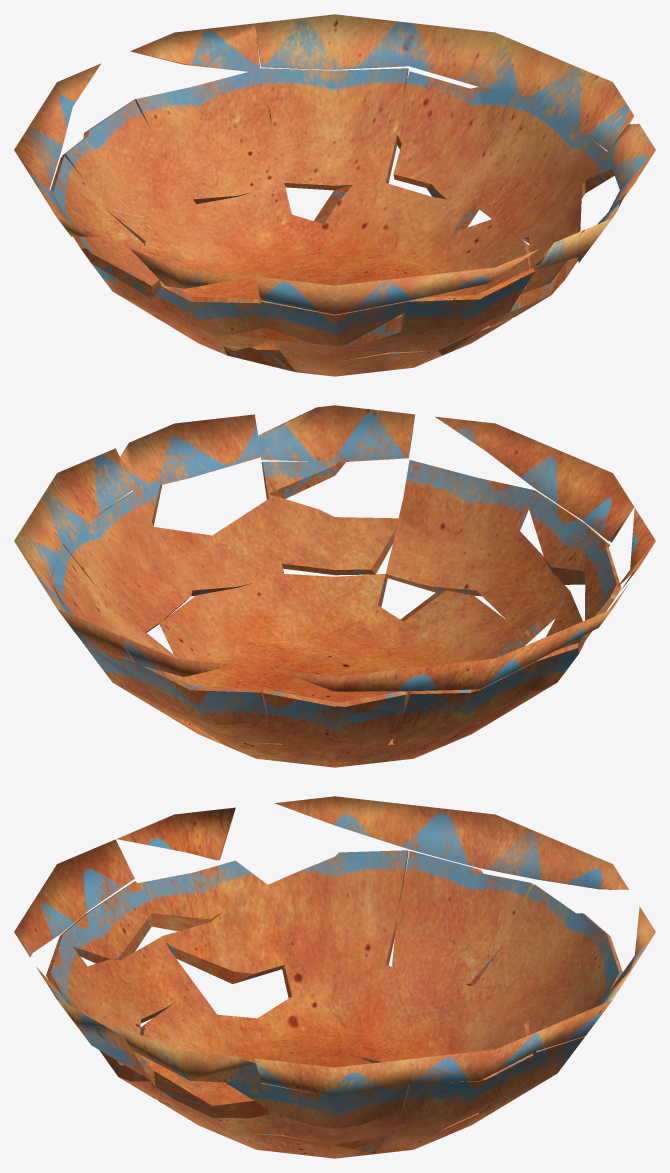
File: bowl.fbx
3 renders of one model, top to bottom at view 1: azimuth 30°, elevation 25°; view 2: azimuth 150°, elevation 25°; view 3: azimuth 270°, elevation 25°, orthographic.
Parts seen in each view (by area): view 1: bowl_cell.008, bowl_cell.040, bowl_cell, bowl_cell.037, bowl_cell.001, bowl_cell.002, bowl_cell.012, bowl_cell.041, bowl_cell.009, bowl_cell.003, bowl_cell.031, bowl_cell.038 (+39 smaller); view 2: bowl_cell.031, bowl_cell.053, bowl_cell.007, bowl_cell.051, bowl_cell.042, bowl_cell.005, bowl_cell.041, bowl_cell.057, bowl_cell.038, bowl_cell.003, bowl_cell.012, bowl_cell.033 (+39 smaller); view 3: bowl_cell.014, bowl_cell.056, bowl_cell.038, bowl_cell.013, bowl_cell.059, bowl_cell.052, bowl_cell.029, bowl_cell.057, bowl_cell.033, bowl_cell.016, bowl_cell.034, bowl_cell.004 (+38 smaller).
Part boxes in pixels (left/top/right/bottom): bowl_cell.008: left=262, top=68, right=408, bottom=180; bowl_cell.040: left=397, top=71, right=516, bottom=204; bowl_cell: left=254, top=14, right=415, bottom=69; bowl_cell.037: left=152, top=103, right=284, bottom=204; bowl_cell.001: left=393, top=87, right=533, bottom=188; bowl_cell.002: left=408, top=23, right=553, bottom=98; bowl_cell.012: left=83, top=100, right=185, bottom=226; bowl_cell.041: left=473, top=131, right=585, bottom=243; bowl_cell.009: left=133, top=68, right=267, bottom=137; bowl_cell.003: left=534, top=57, right=634, bottom=150; bowl_cell.031: left=399, top=268, right=534, bottom=344; bowl_cell.038: left=62, top=112, right=196, bottom=242; bowl_cell.031: left=393, top=460, right=533, bottom=580; bowl_cell.053: left=385, top=463, right=515, bottom=596; bowl_cell.007: left=258, top=405, right=415, bottom=461; bowl_cell.051: left=268, top=494, right=397, bottom=575; bowl_cell.042: left=154, top=499, right=284, bottom=595; bowl_cell.005: left=120, top=414, right=261, bottom=490; bowl_cell.041: left=84, top=522, right=192, bottom=632; bowl_cell.057: left=477, top=527, right=569, bottom=638; bowl_cell.038: left=265, top=691, right=405, bottom=753; bowl_cell.003: left=36, top=448, right=134, bottom=542; bowl_cell.012: left=263, top=689, right=395, bottom=751; bowl_cell.033: left=535, top=448, right=634, bottom=542; bowl_cell.014: left=393, top=851, right=500, bottom=976; bowl_cell.056: left=268, top=885, right=401, bottom=967; bowl_cell.038: left=473, top=884, right=597, bottom=1027; bowl_cell.013: left=408, top=805, right=553, bottom=879; bowl_cell.059: left=163, top=885, right=284, bottom=983; bowl_cell.052: left=392, top=854, right=533, bottom=986; bowl_cell.029: left=137, top=860, right=267, bottom=931; bowl_cell.057: left=88, top=936, right=196, bottom=1023; bowl_cell.033: left=36, top=839, right=134, bottom=932; bowl_cell.016: left=268, top=850, right=408, bottom=904; bowl_cell.034: left=60, top=881, right=151, bottom=963; bowl_cell.004: left=261, top=1083, right=408, bottom=1129.
Size of the model in its own units: 14494 by 3989 by 14494.
